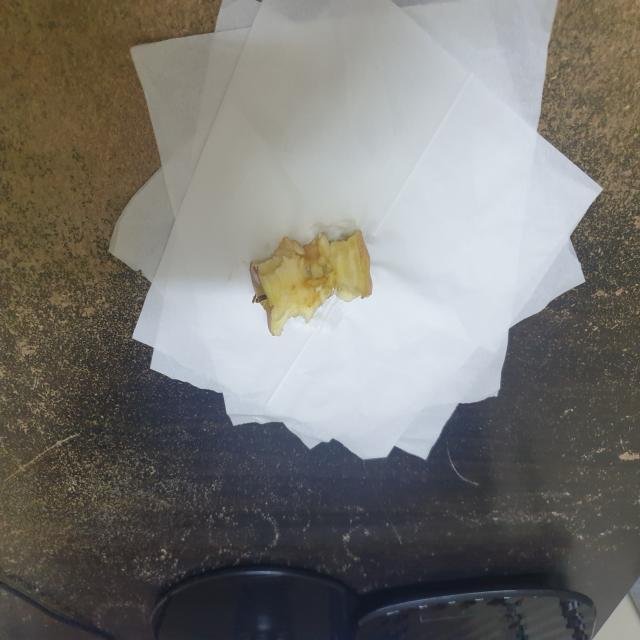apple: (240, 218, 378, 340)
